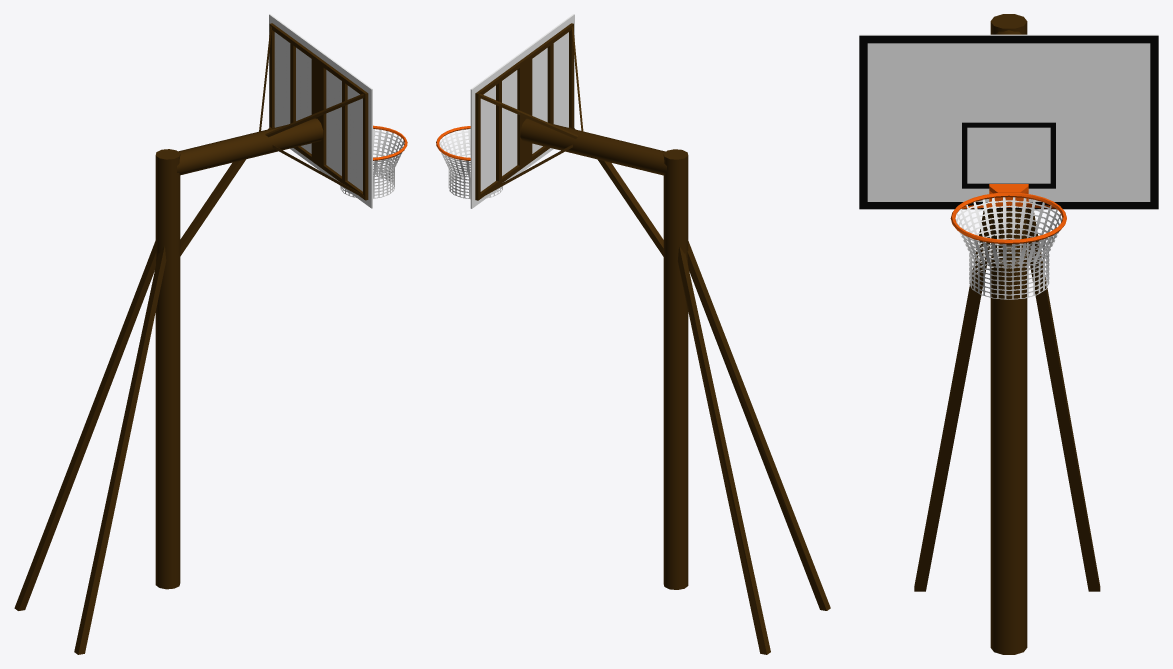
3 views of the same model, side by side, from view 1: azimuth 30°, elevation 25°; view 2: azimuth 150°, elevation 25°; view 3: azimuth 270°, elevation 25° (orthographic). The views are drawn at different scales.
Parts seen in each view (by area): view 1: default_metal_0, default_metal white_0, default_Setka_0; view 2: default_metal_0, default_metal white_0, default_Setka_0; view 3: default_metal white_0, default_metal_0, default_metal black_0, default_Setka_0, default_metal orange_0.
Boxes of the visible parts, box(x1,y1,x2,y2) form: default_metal_0: box(14, 23, 368, 654); default_metal white_0: box(269, 14, 372, 208); default_Setka_0: box(340, 128, 404, 198); default_metal_0: box(475, 23, 830, 654); default_metal white_0: box(470, 14, 574, 208); default_Setka_0: box(439, 128, 502, 199); default_metal white_0: box(859, 34, 1158, 201); default_metal_0: box(914, 14, 1100, 654); default_metal black_0: box(859, 35, 1158, 209); default_Setka_0: box(955, 197, 1061, 299); default_metal orange_0: box(950, 184, 1066, 244).
Size of the model in its own units: 2.61 by 3.58 by 1.3.
Materials: 5 (1 with a texture image).
